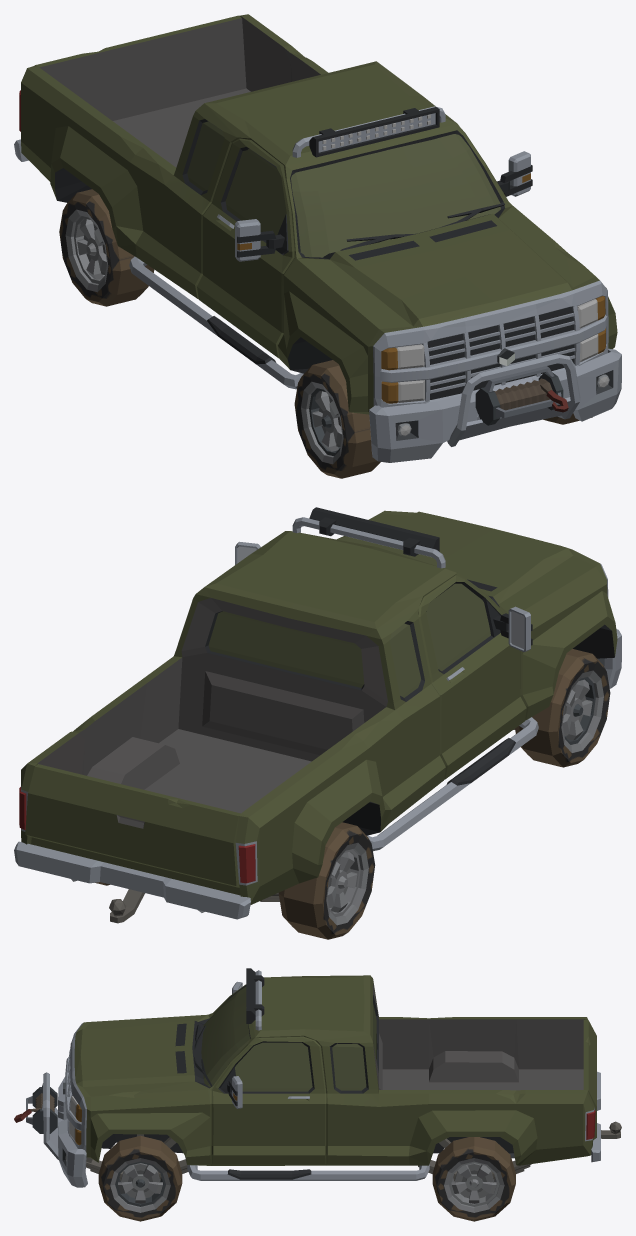
Rendered from SM_Veh_Pickup_01.fbx.
3 renders of one model, top to bottom at view 1: azimuth 30°, elevation 25°; view 2: azimuth 150°, elevation 25°; view 3: azimuth 270°, elevation 25°, orthographic. The views are drawn at different scales.
Visible parts, largest first — view 1: SM_Veh_Pickup_01, SM_Veh_Pickup_Glass, SM_Veh_Pickup_01_Wheel_fr, SM_Veh_Pickup_01_Wheel_rr; view 2: SM_Veh_Pickup_01, SM_Veh_Pickup_Glass, SM_Veh_Pickup_01_Wheel_rr, SM_Veh_Pickup_01_Wheel_fr; view 3: SM_Veh_Pickup_01, SM_Veh_Pickup_Glass, SM_Veh_Pickup_01_Wheel_fl, SM_Veh_Pickup_01_Wheel_rl.
Part boxes in pixels (x1,y1,x2,y2): SM_Veh_Pickup_01: (14,14,621,462); SM_Veh_Pickup_Glass: (187,121,500,257); SM_Veh_Pickup_01_Wheel_fr: (294,360,380,478); SM_Veh_Pickup_01_Wheel_rr: (59,189,154,306); SM_Veh_Pickup_01: (14,507,621,923); SM_Veh_Pickup_Glass: (208,583,490,697); SM_Veh_Pickup_01_Wheel_rr: (278,822,375,939); SM_Veh_Pickup_01_Wheel_fr: (515,649,610,767); SM_Veh_Pickup_01: (14,968,621,1187); SM_Veh_Pickup_Glass: (201,986,376,1091); SM_Veh_Pickup_01_Wheel_fl: (98,1135,182,1221); SM_Veh_Pickup_01_Wheel_rl: (432,1137,515,1221).
Bounding box in the file's own units: 255 × 219 × 641.
